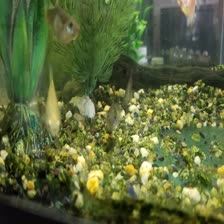Guppy: (43, 1, 84, 46), (41, 57, 62, 139)
